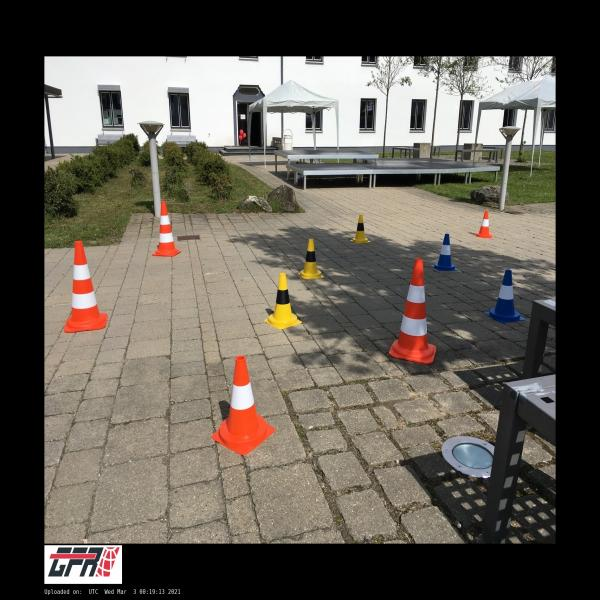blue_cone: (484, 269, 526, 323), (431, 234, 458, 271)
large_orange_cone: (389, 258, 436, 364), (64, 241, 108, 332), (152, 201, 181, 256)
orange_cone: (211, 356, 276, 455), (473, 211, 495, 238)
yellow_cone: (264, 273, 302, 329), (298, 239, 324, 279), (350, 214, 370, 243)
